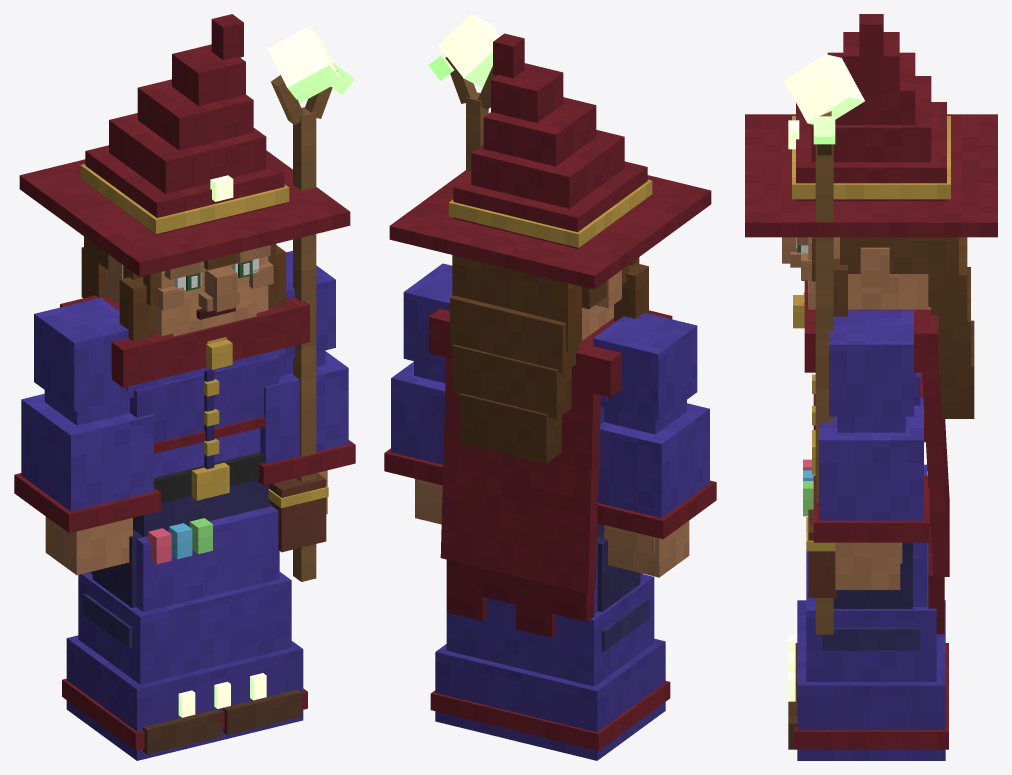
File: human_mage.glb
3 views of the same model, side by side, from view 1: azimuth 30°, elevation 25°; view 2: azimuth 150°, elevation 25°; view 3: azimuth 270°, elevation 25° (orthographic). The views are drawn at different scales.
Parts seen in each view (by area): view 1: Head, Root, Torso, ArmR, HandL, ArmL, LegR, LegL; view 2: Head, Torso, Root, ArmR, ArmL, HandL, LegR; view 3: Head, ArmL, Root, Torso, HandL, LegL.
Part boxes in pixels (x1,y1,x2,y2): Head: (19,14,350,341); Root: (62,506,307,760); Torso: (60,295,328,573); ArmR: (14,297,160,575); HandL: (268,26,354,581); ArmL: (257,251,355,514); LegR: (83,529,221,754); LegL: (223,503,301,734); Head: (389,33,711,463); Torso: (428,308,672,637); Root: (430,544,670,760); ArmR: (593,312,716,577); ArmL: (384,263,452,524); HandL: (428,14,500,171); LegR: (597,533,649,651); Head: (745,14,997,418); ArmL: (813,310,929,589); Root: (788,464,948,760); Torso: (793,281,949,634); HandL: (784,54,864,634); LegL: (788,542,920,749).
Size of the model in its own units: 0.966 by 2.2 by 0.7.
Materials: 39 (39 with a texture image).
